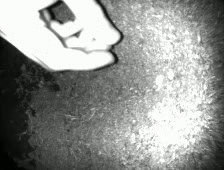corn: (153, 73, 165, 85)
